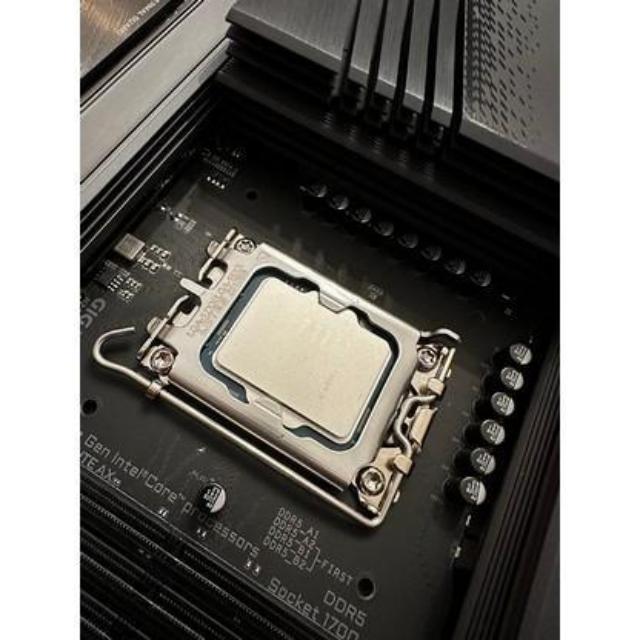CPU: (211, 276, 400, 436)
